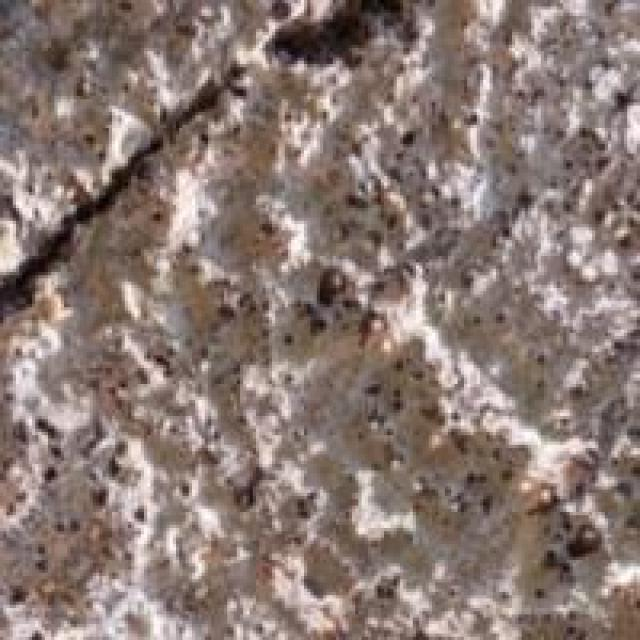Crack: (4, 5, 433, 277)
